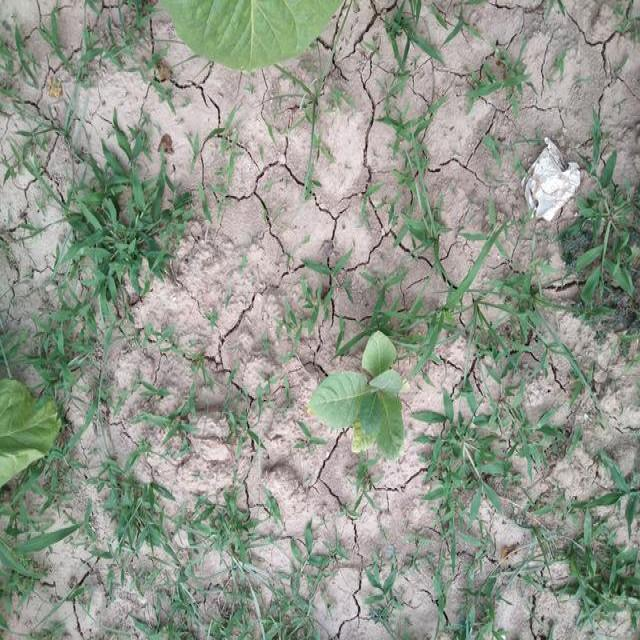crop: (302, 324, 408, 466), (170, 0, 339, 61), (0, 366, 56, 486)
